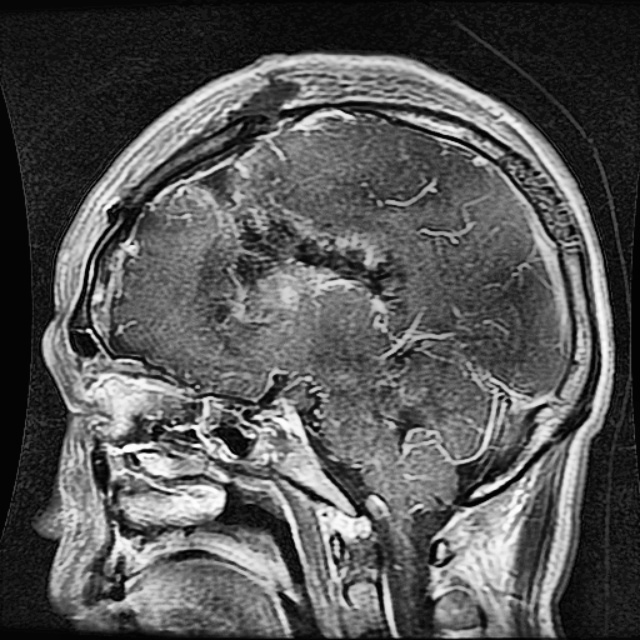Meningioma: (183, 159, 405, 334)
